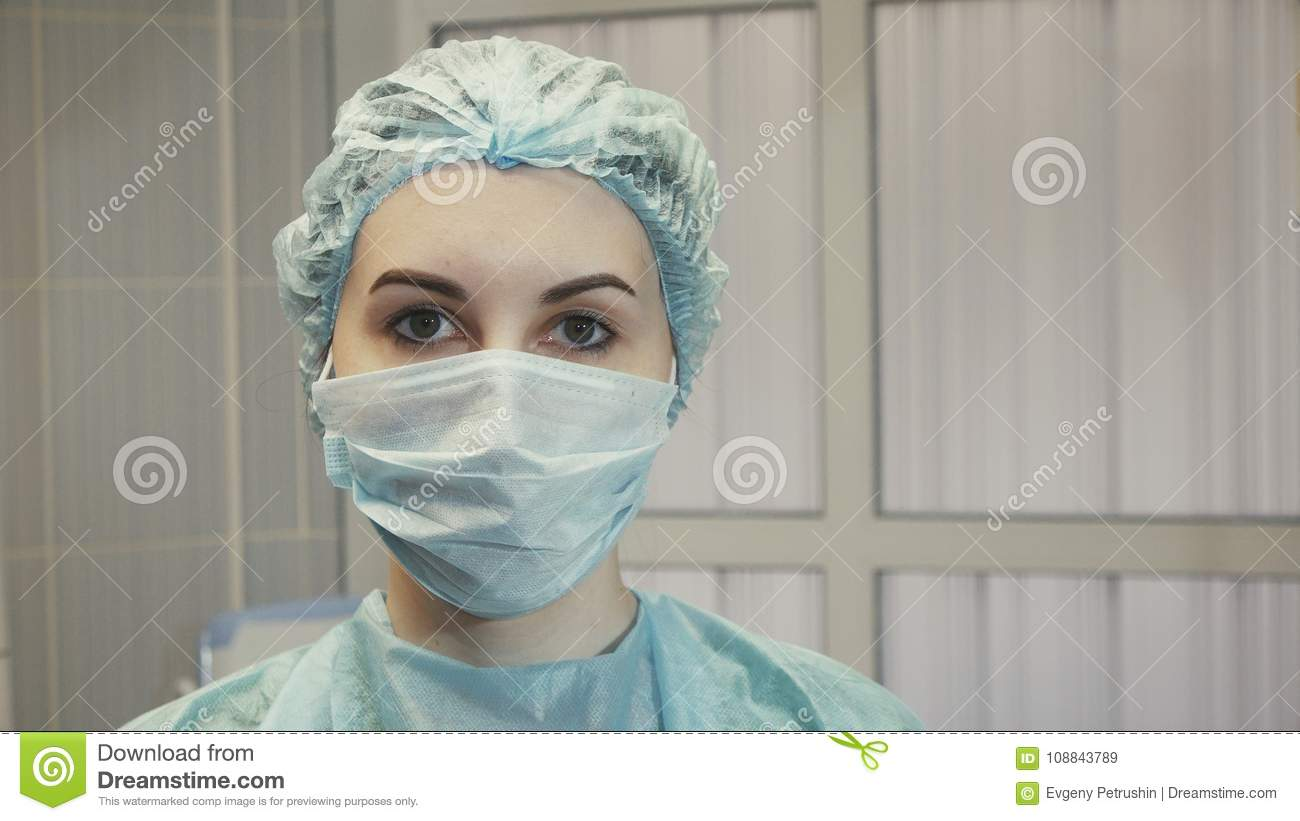mask: (315, 367, 684, 628)
